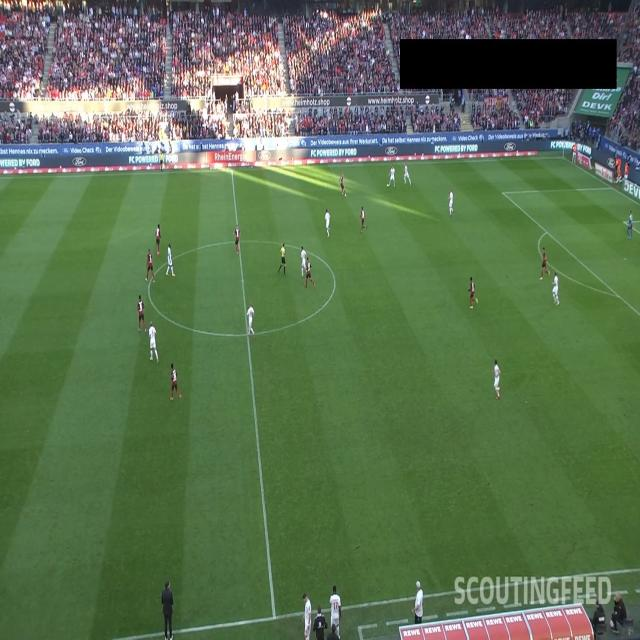ball: (387, 183, 389, 187)
